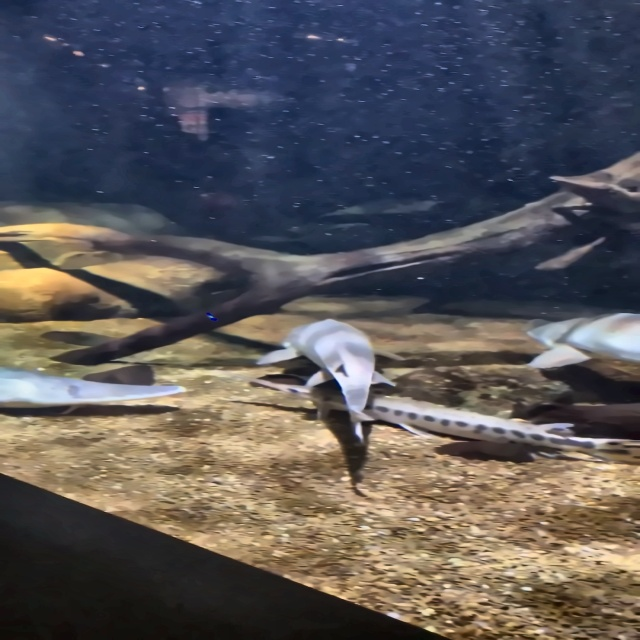fish: (213, 368, 639, 466), (0, 368, 185, 410)
shark: (260, 314, 401, 444)
